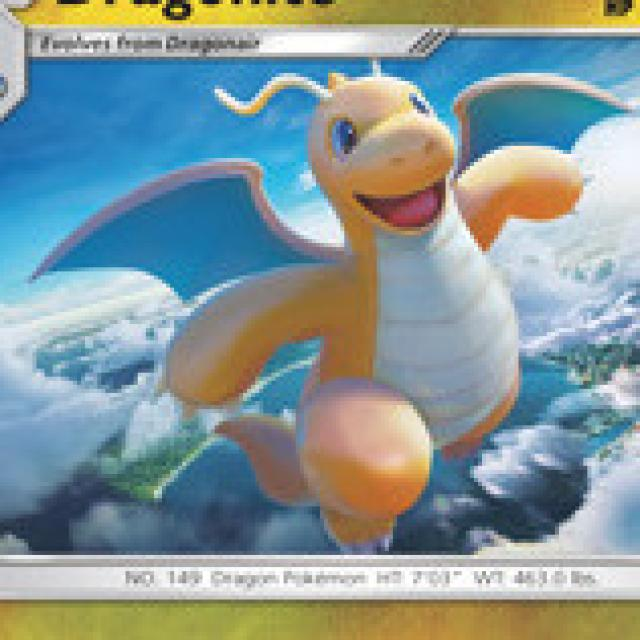Dragonite: (179, 70, 539, 524)
